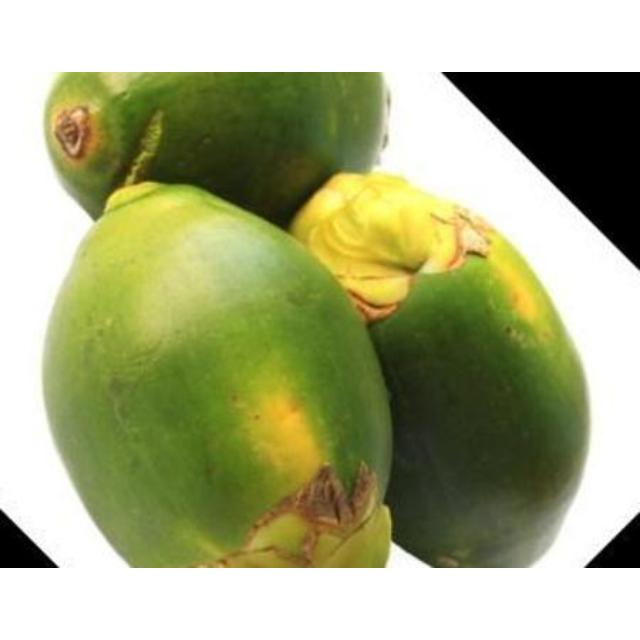good: (40, 182, 395, 567), (313, 173, 590, 567), (47, 72, 388, 231)
